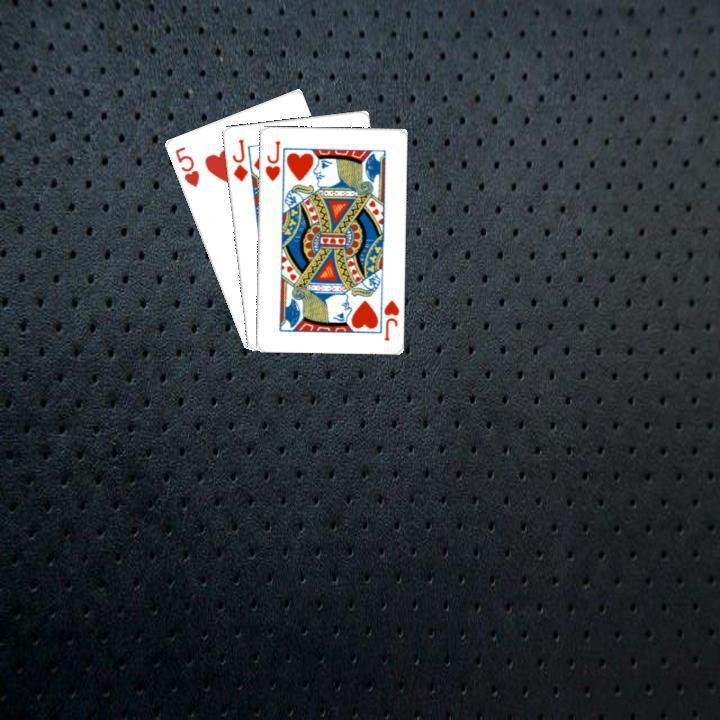5: (170, 142, 201, 189)
J: (228, 135, 250, 184), (260, 136, 282, 183), (379, 296, 401, 342)
